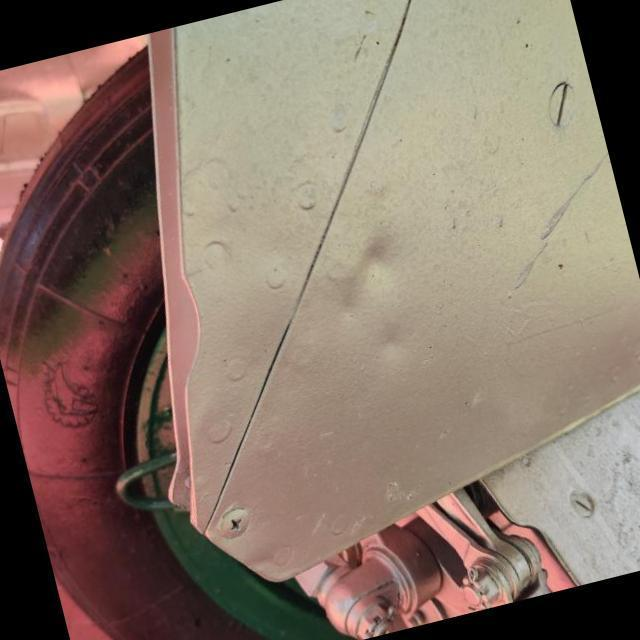Dent: (298, 206, 432, 340)
